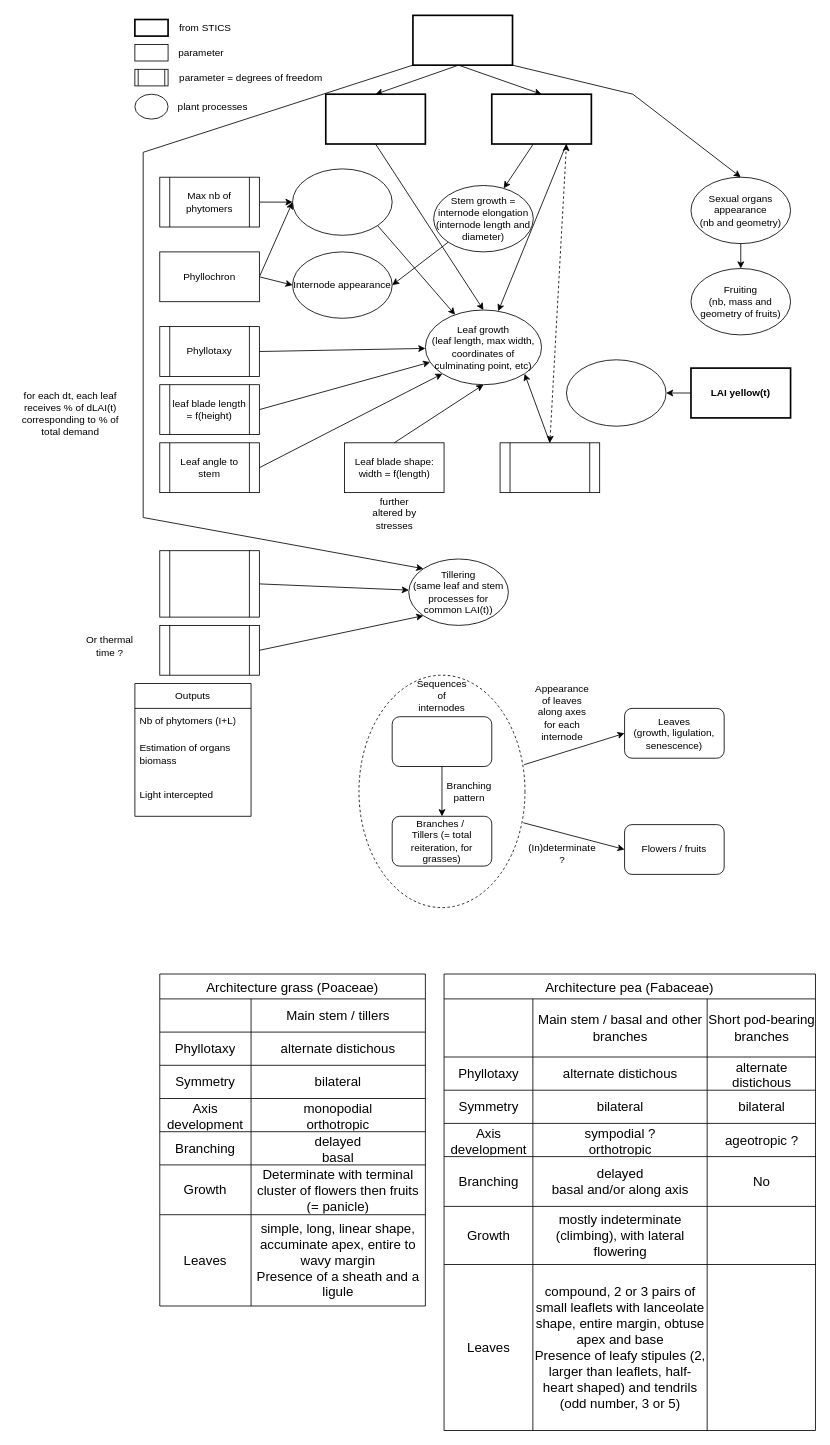
The diagram is 830 pixels wide and 1445 high, and some of its shapes have lost their labels. The shapes that lost their labels are listed below. From the top down, each one's centre as x and y in pixels, then its label:
(462,40): Adjusted thermal time (= t)
(375,118): LAI green(t) = green leaf area / land area
(541,118): Plant height(t) = highest point of canopy
(342,201): Leaf appearance
(616,392): Leaf senescence
(549,467): Leaf blade curvature
(209,583): Nb of tillers/basal branches (and all branching patterns)
(209,650): Timing of tiller appearance = Haun Stage-delay
(441,741): Main stem
